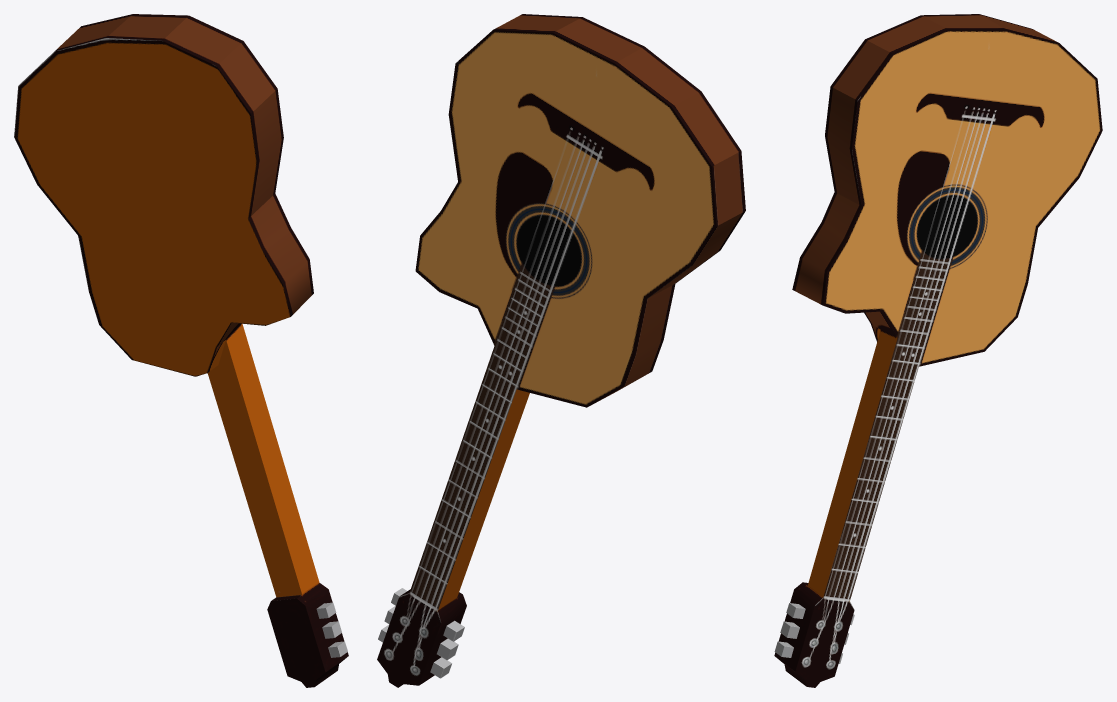
Rendered from guitarra3_000195.obj.
3 views of the same model, side by side, from view 1: azimuth 30°, elevation 25°; view 2: azimuth 210°, elevation 25°; view 3: azimuth 270°, elevation 25° (orthographic). The views are drawn at different scales.
Visible parts, largest first — view 1: Guitarra_2:pPlane4; view 2: Guitarra_2:pPlane4; view 3: Guitarra_2:pPlane4.
Part boxes in pixels (<box>): Guitarra_2:pPlane4: <box>14,14,348,687</box>; Guitarra_2:pPlane4: <box>377,14,745,687</box>; Guitarra_2:pPlane4: <box>774,14,1102,687</box>.
Bounding box in the file's own units: 3.96 × 12.19 × 5.82.
